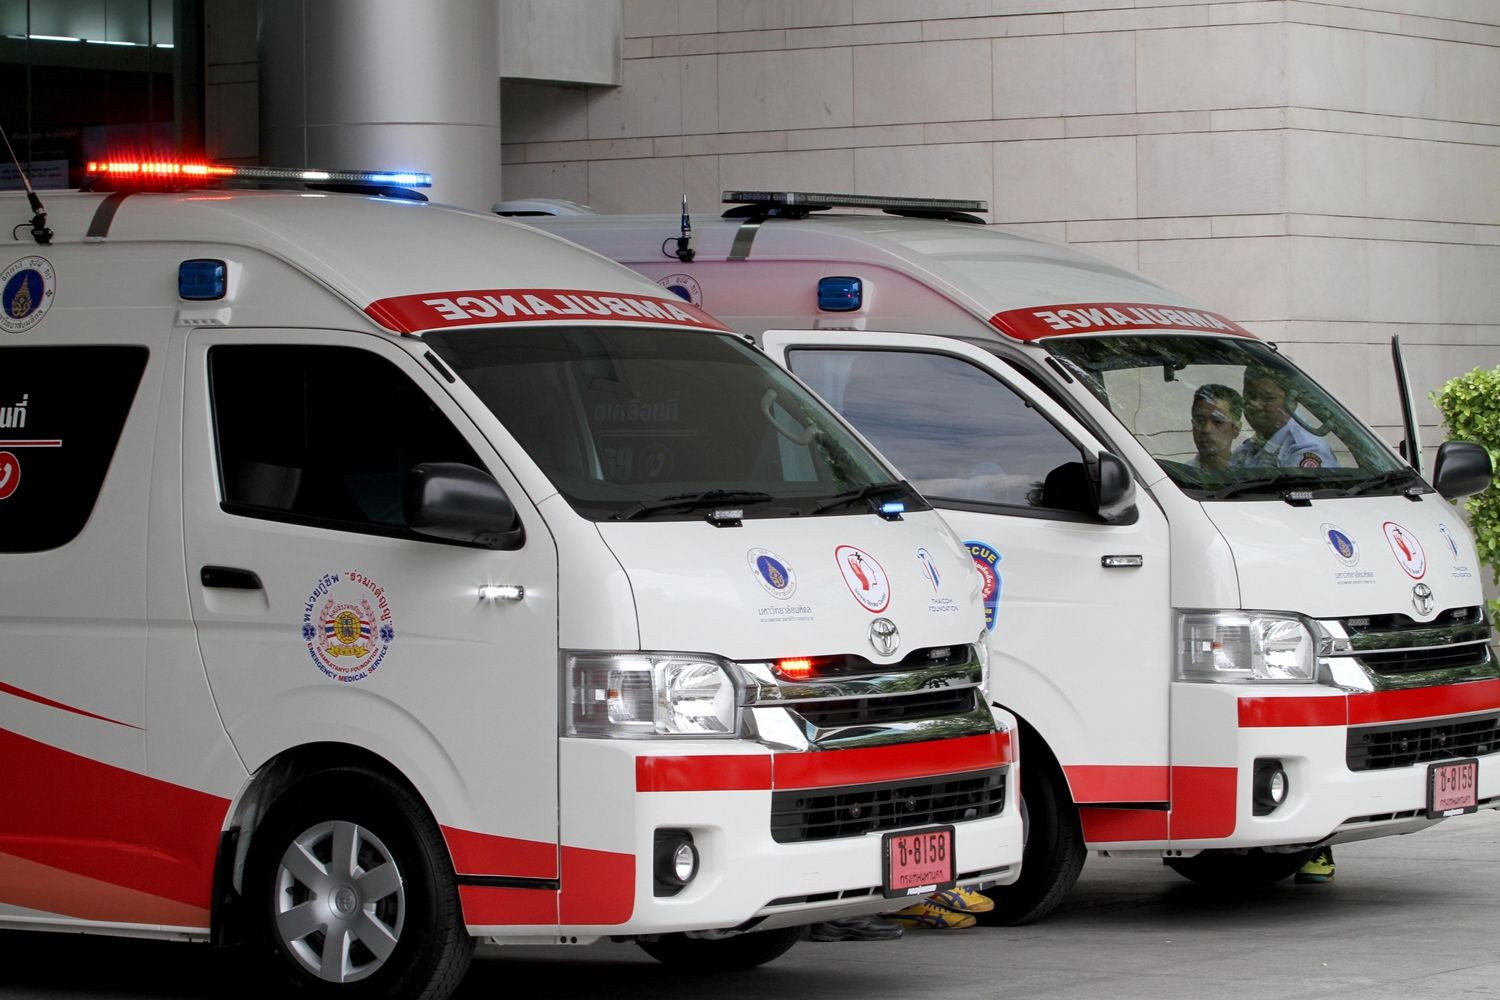van: (4, 190, 1028, 996)
